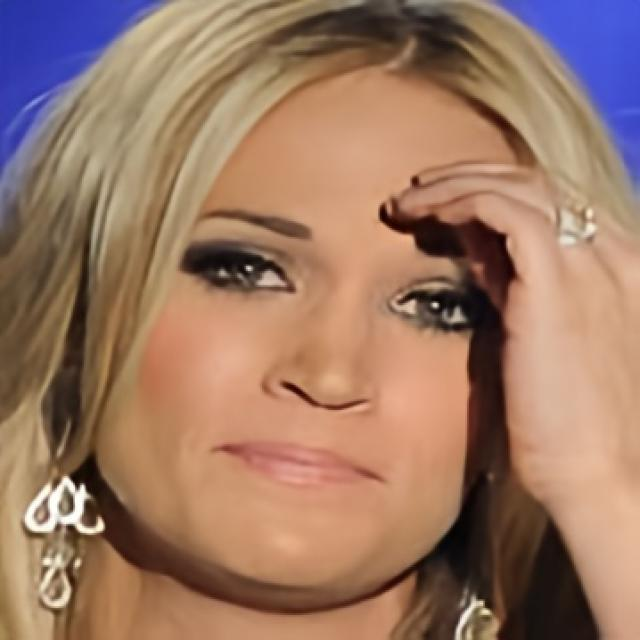sad: (105, 54, 489, 586)
